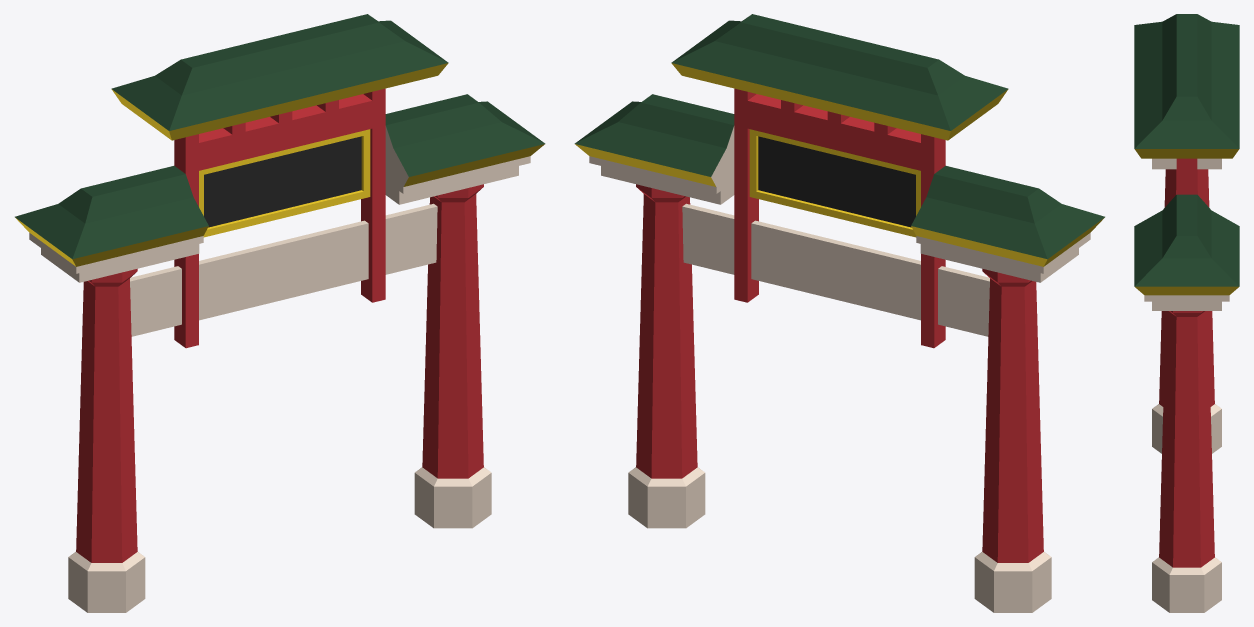
Rendered from buildings_gate-china.fbx.
3 views of the same model, side by side, from view 1: azimuth 30°, elevation 25°; view 2: azimuth 150°, elevation 25°; view 3: azimuth 270°, elevation 25° (orthographic). The views are drawn at different scales.
Parts seen in each view (by area): view 1: buildings_gate_china; view 2: buildings_gate_china; view 3: buildings_gate_china.
Boxes of the visible parts, left/top/right/bottom form: buildings_gate_china: left=15, top=14, right=545, bottom=612; buildings_gate_china: left=574, top=14, right=1104, bottom=612; buildings_gate_china: left=1134, top=14, right=1239, bottom=612.
Bounding box in the file's own units: 192 × 200 × 40.73.
